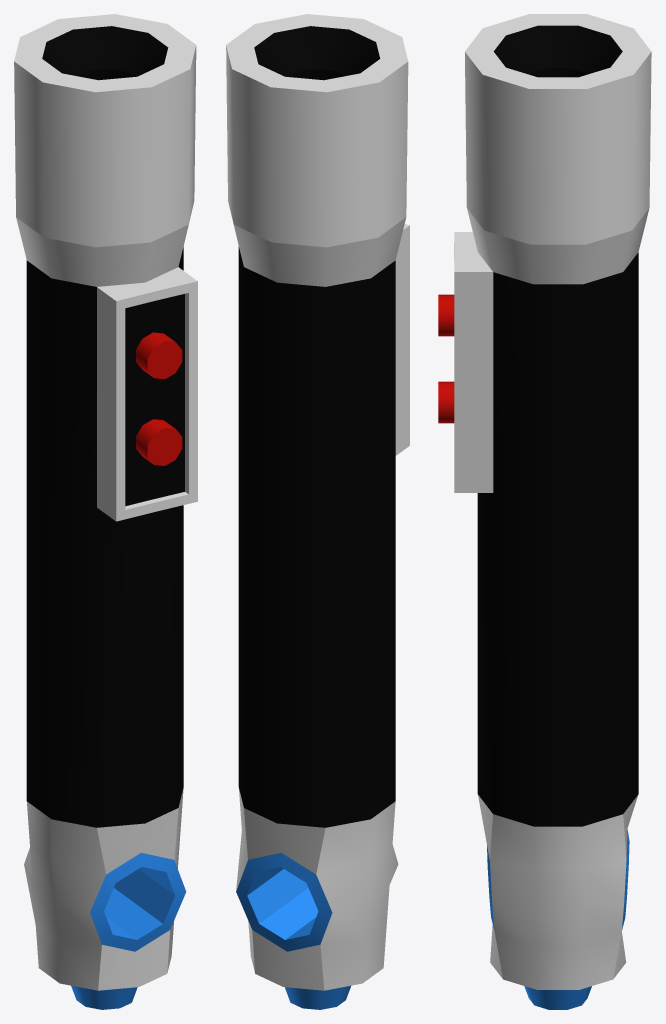
File: LaserReskittenAssets.fbx
3 views of the same model, side by side, from view 1: azimuth 30°, elevation 25°; view 2: azimuth 150°, elevation 25°; view 3: azimuth 270°, elevation 25° (orthographic).
Visible parts, largest first — view 1: Laser; view 2: Laser; view 3: Laser.
Part boxes in pixels (bbox=[...]): Laser: bbox=[14, 14, 197, 1009]; Laser: bbox=[226, 14, 409, 1009]; Laser: bbox=[438, 14, 651, 1009].
Size of the model in its own units: 52.19 by 307 by 62.64.
